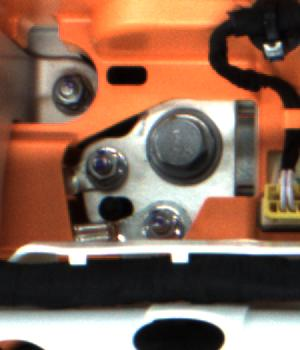screw_s: (43, 73, 93, 112), (78, 148, 124, 185), (140, 209, 187, 239)
